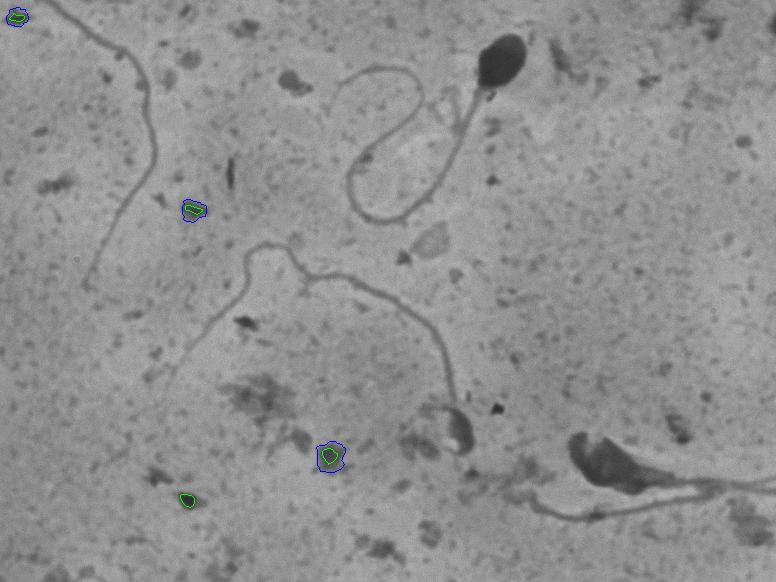Abnormal: (163, 236, 495, 473), (514, 395, 761, 560)
Normal: (299, 23, 595, 254)
